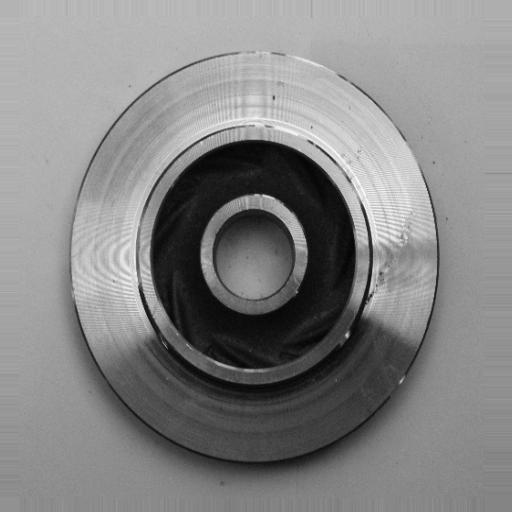crack: (360, 238, 395, 328)
unpolished_casting: (67, 45, 438, 470)
